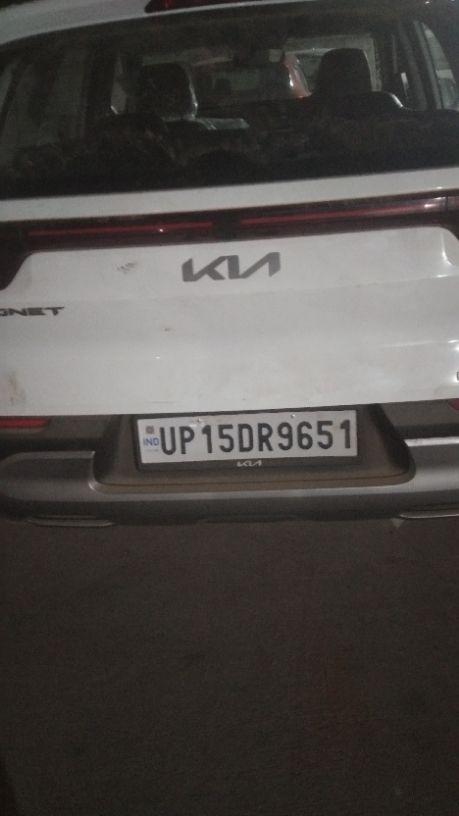license_plate: (131, 406, 360, 470)
